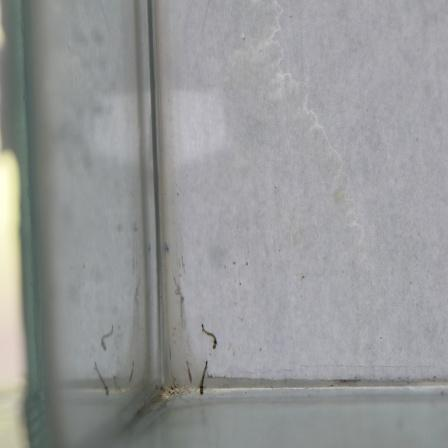Jentik-Nyamuk: (197, 320, 220, 352), (196, 358, 212, 398)
